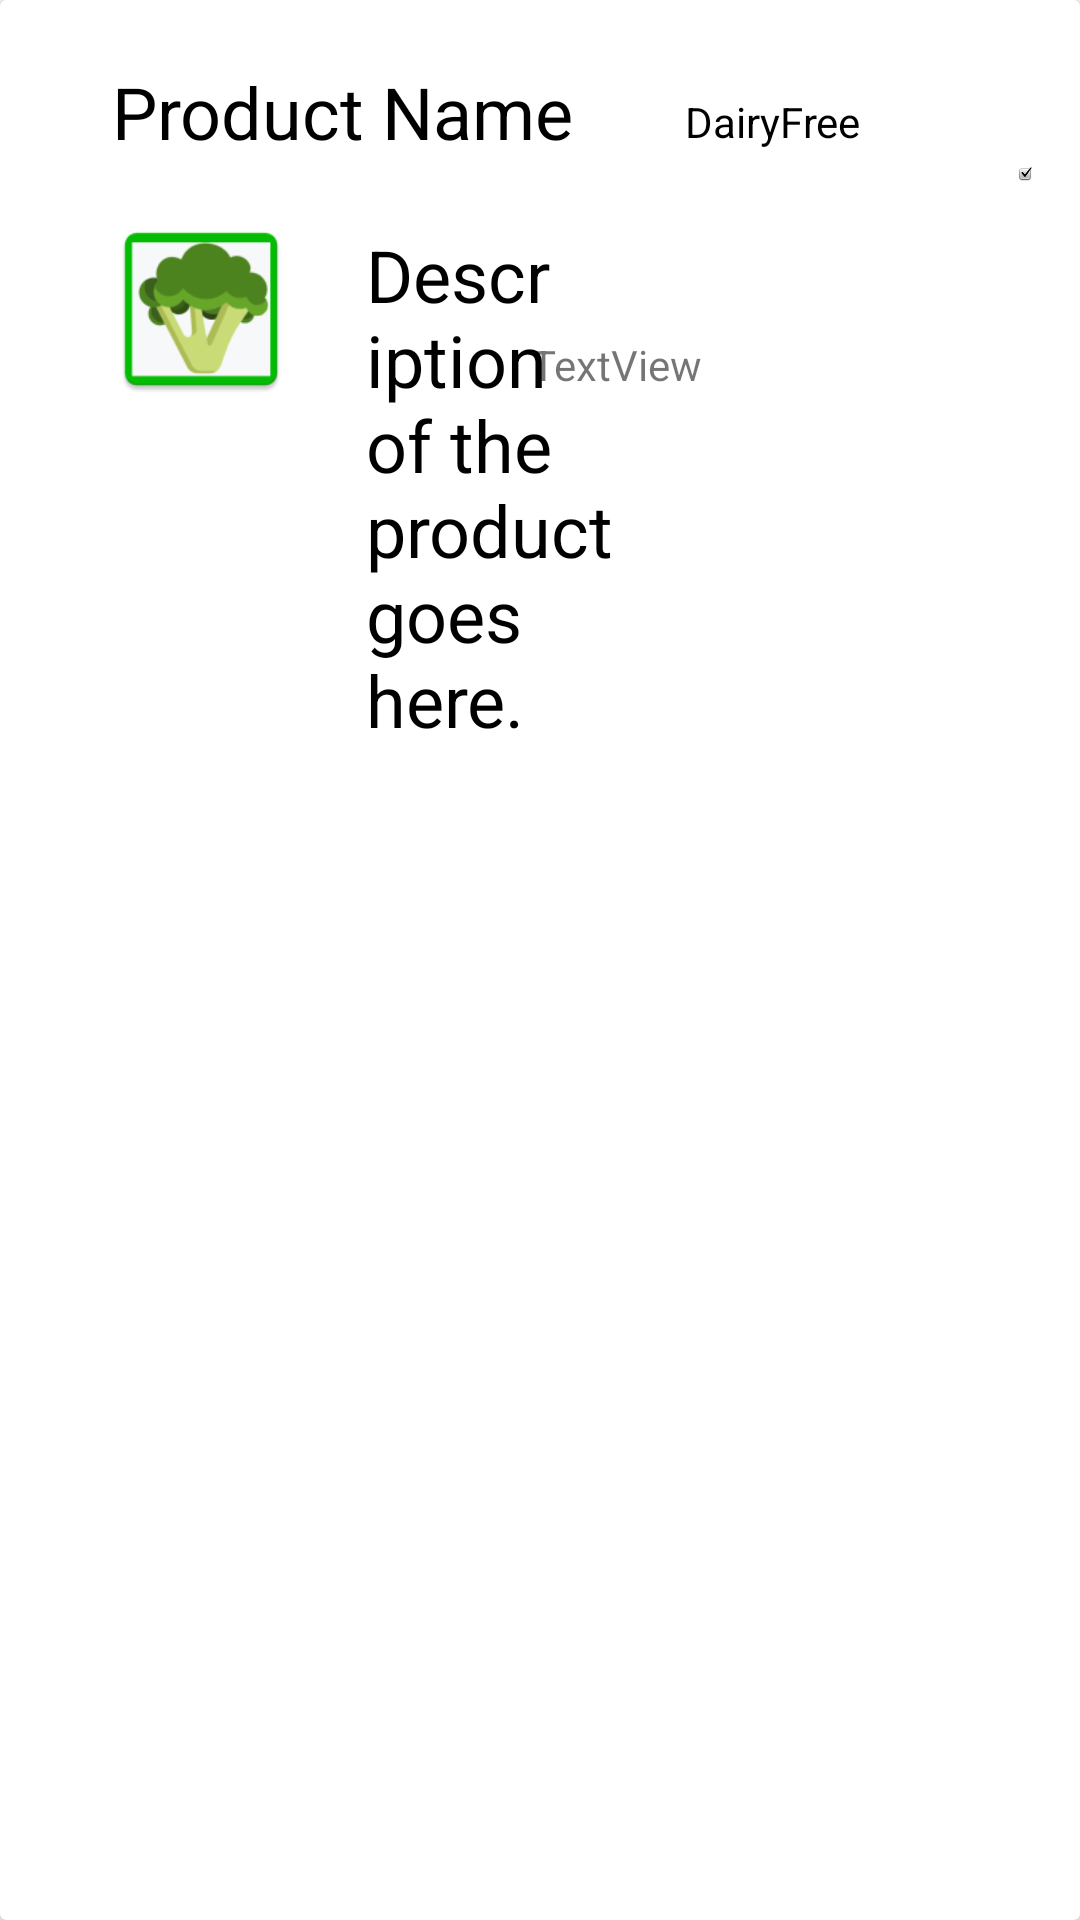

Where to tap for icons on this 1080px×1920px app screen, as (x=x, y=y):
Default image showing, brocoli: (x=201, y=311)
